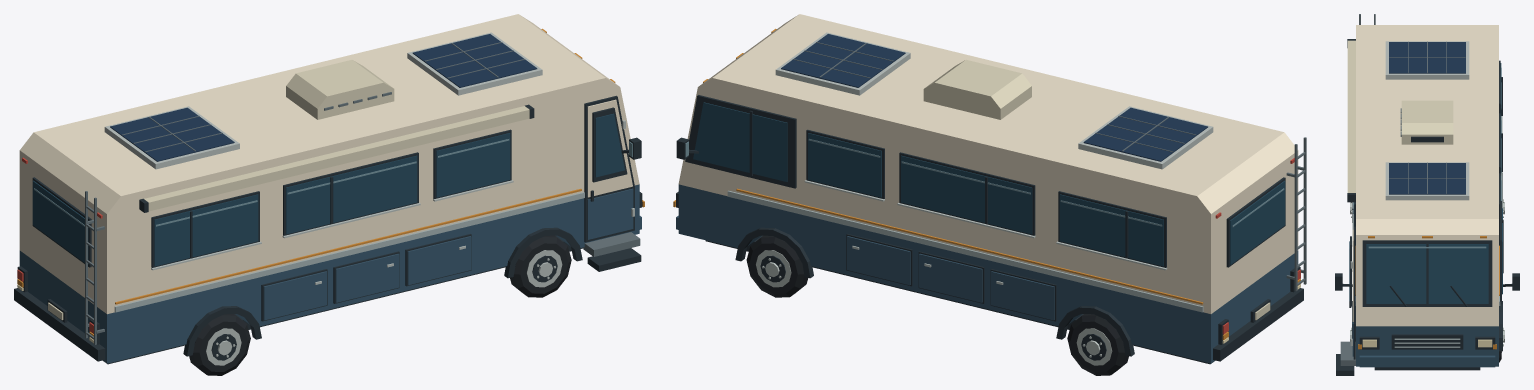
File: 04_horizon_coach.glb
3 renders of one model, left to right at view 1: azimuth 30°, elevation 25°; view 2: azimuth 150°, elevation 25°; view 3: azimuth 270°, elevation 25°, orthographic. The views are drawn at different scales.
Visible parts, largest first — view 1: Upper_coach_body, Lower_coach_body, Entry_living_window_glass, Entry_awning_case, Entry_rear_lounge_window_glass, Roof_air_conditioner, Solar_cells_0, Solar_cells_1, Entry_dinette_window_glass, Entry_belt_accent, Rear_window_glass, Entry_locker_panel_1 (+23 smaller); view 2: Upper_coach_body, Lower_coach_body, Driver_living_window_glass, Driver_cab_glazing_glass, Driver_rear_lounge_window_glass, Roof_air_conditioner, Solar_cells_1, Solar_cells_0, Driver_dinette_window_glass, Driver_belt_accent, Rear_window_glass, Driver_cab_glazing_rubber_frame (+20 smaller); view 3: Upper_coach_body, Panoramic_front_windscreen_glass, Lower_coach_body, Solar_cells_0, Solar_cells_1, Roof_air_conditioner, Front_bumper, Panoramic_front_windscreen_frame, Entry_awning_case, Front_grille_surround, Solar_frame_0, Solar_frame_1 (+12 smaller).
Part boxes in pixels (x1,y1,x2,y2): Upper_coach_body: [19, 14, 639, 314]; Lower_coach_body: [19, 184, 639, 363]; Entry_living_window_glass: [286, 155, 417, 234]; Entry_awning_case: [144, 106, 529, 211]; Entry_rear_lounge_window_glass: [154, 194, 258, 266]; Roof_air_conditioner: [286, 60, 394, 119]; Solar_cells_0: [110, 107, 234, 161]; Solar_cells_1: [412, 34, 537, 87]; Entry_dinette_window_glass: [436, 133, 510, 197]; Entry_belt_accent: [114, 192, 584, 312]; Rear_window_glass: [32, 180, 88, 264]; Entry_locker_panel_1: [335, 253, 399, 302]; Upper_coach_body: [678, 14, 1298, 313]; Lower_coach_body: [678, 184, 1298, 363]; Driver_living_window_glass: [901, 155, 1032, 234]; Driver_cab_glazing_glass: [693, 102, 787, 181]; Driver_rear_lounge_window_glass: [1059, 194, 1163, 266]; Roof_air_conditioner: [923, 59, 1031, 119]; Solar_cells_1: [781, 34, 905, 87]; Solar_cells_0: [1083, 107, 1207, 161]; Driver_dinette_window_glass: [808, 133, 881, 197]; Driver_belt_accent: [727, 190, 1203, 312]; Rear_window_glass: [1230, 180, 1285, 264]; Driver_cab_glazing_rubber_frame: [685, 95, 796, 188]; Upper_coach_body: [1356, 25, 1498, 326]; Panoramic_front_windscreen_glass: [1366, 244, 1488, 303]; Lower_coach_body: [1356, 326, 1498, 366]; Solar_cells_0: [1389, 42, 1465, 73]; Solar_cells_1: [1389, 163, 1465, 194]; Roof_air_conditioner: [1401, 100, 1453, 144]; Front_bumper: [1359, 355, 1495, 367]; Panoramic_front_windscreen_frame: [1362, 240, 1492, 306]; Entry_awning_case: [1347, 40, 1355, 192]; Front_grille_surround: [1391, 334, 1463, 349]; Solar_frame_0: [1385, 41, 1469, 79]; Solar_frame_1: [1385, 162, 1469, 200].
Size of the model in its own units: 9.07 by 3.58 by 3.23.
